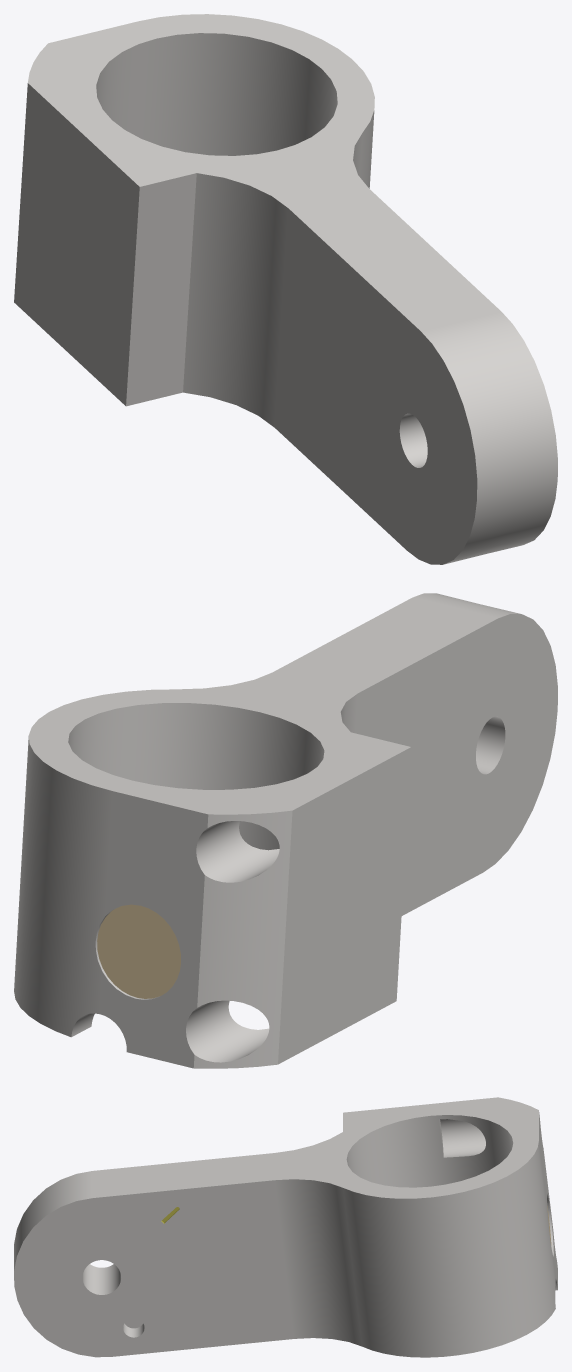
File: Body3.001.dae
3 renders of one model, top to bottom at view 1: azimuth 30°, elevation 25°; view 2: azimuth 150°, elevation 25°; view 3: azimuth 270°, elevation 25°, orthographic. The views are drawn at different scales.
Parts seen in each view (by area): view 1: Body3_000; view 2: Body3_000; view 3: Body3_000.
Boxes of the visible parts, x1=… form: Body3_000: x1=14, y1=14, x2=557, y2=564; Body3_000: x1=14, y1=593, x2=557, y2=1068; Body3_000: x1=14, y1=1097, x2=557, y2=1357.
Bounding box in the file's own units: 0.0515 × 0.1265 × 0.0521.
